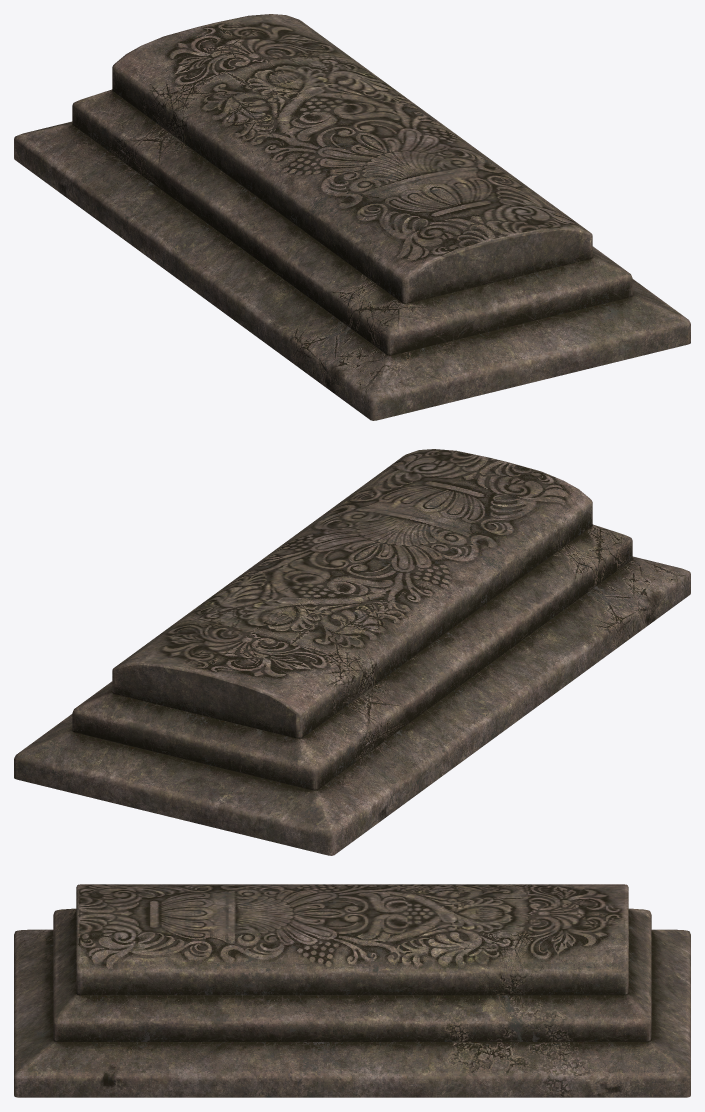
Rendered from SM_tombstone_20.fbx.
3 views of the same model, one above another, from view 1: azimuth 30°, elevation 25°; view 2: azimuth 150°, elevation 25°; view 3: azimuth 270°, elevation 25° (orthographic). The views are drawn at different scales.
Parts seen in each view (by area): view 1: SM_tombstone_020; view 2: SM_tombstone_020; view 3: SM_tombstone_020.
Boxes of the visible parts, x1,y1,x2,y2 form: SM_tombstone_020: (14,14,690,420); SM_tombstone_020: (14,449,690,855); SM_tombstone_020: (14,884,690,1097).
Bounding box in the file's own units: 110 × 39.19 × 214.
